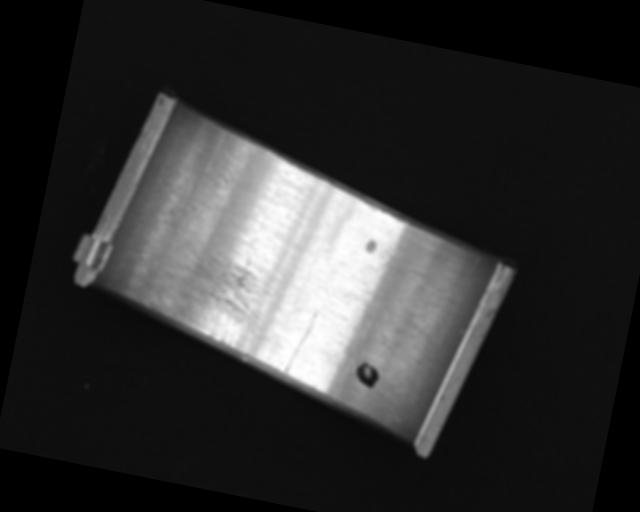blot: (351, 361, 381, 390)
bruise: (364, 237, 378, 256)
nick: (412, 244, 480, 348), (284, 306, 320, 377)
scratch: (137, 239, 275, 359)
